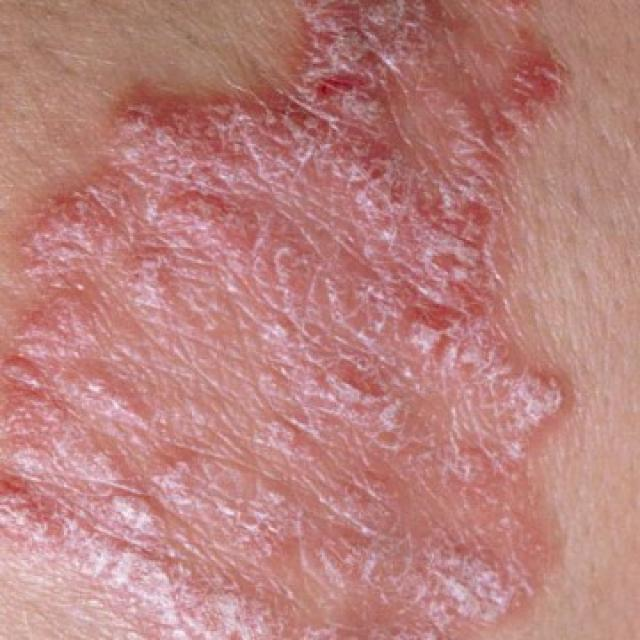Psoriasis: (0, 0, 569, 638)
